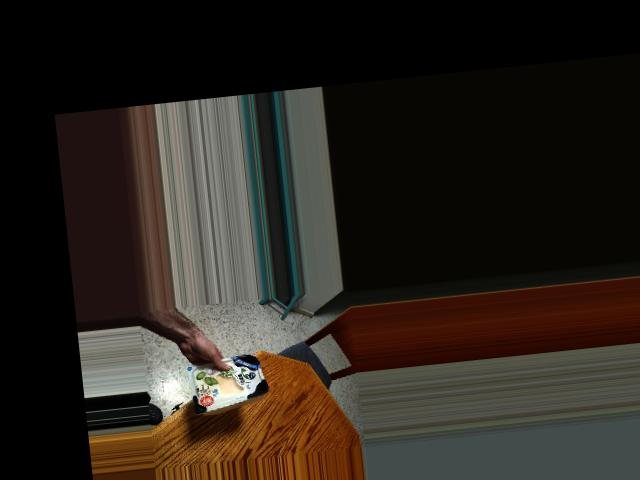cheese: (187, 350, 269, 416)
